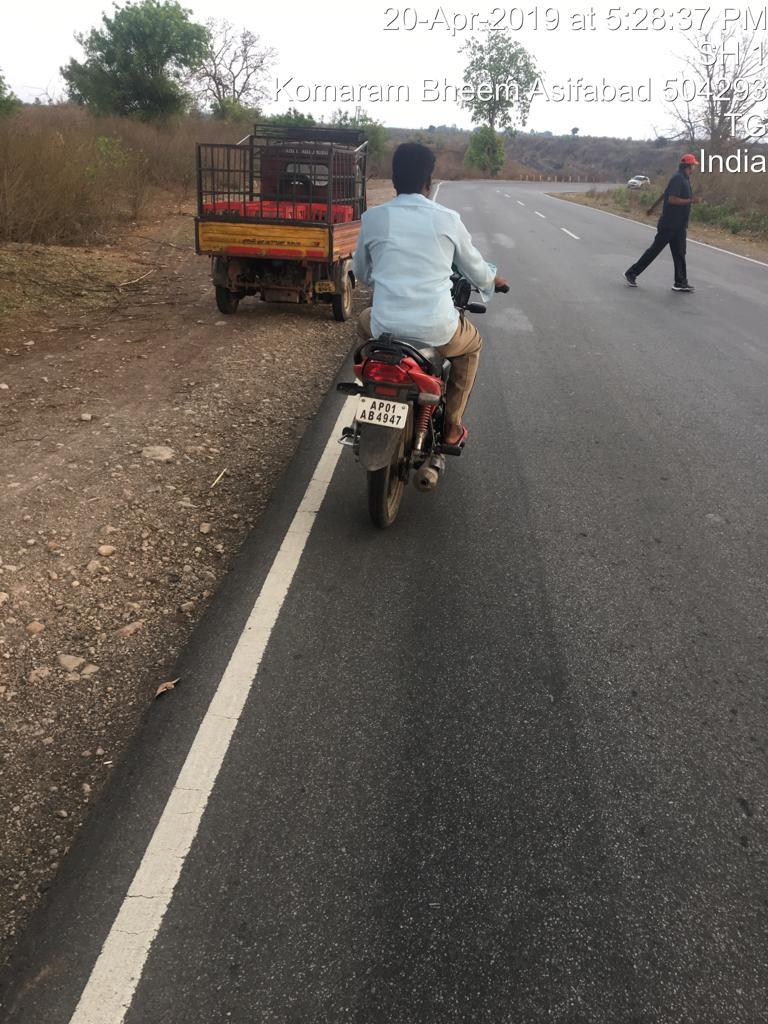plate: (342, 386, 442, 460)
